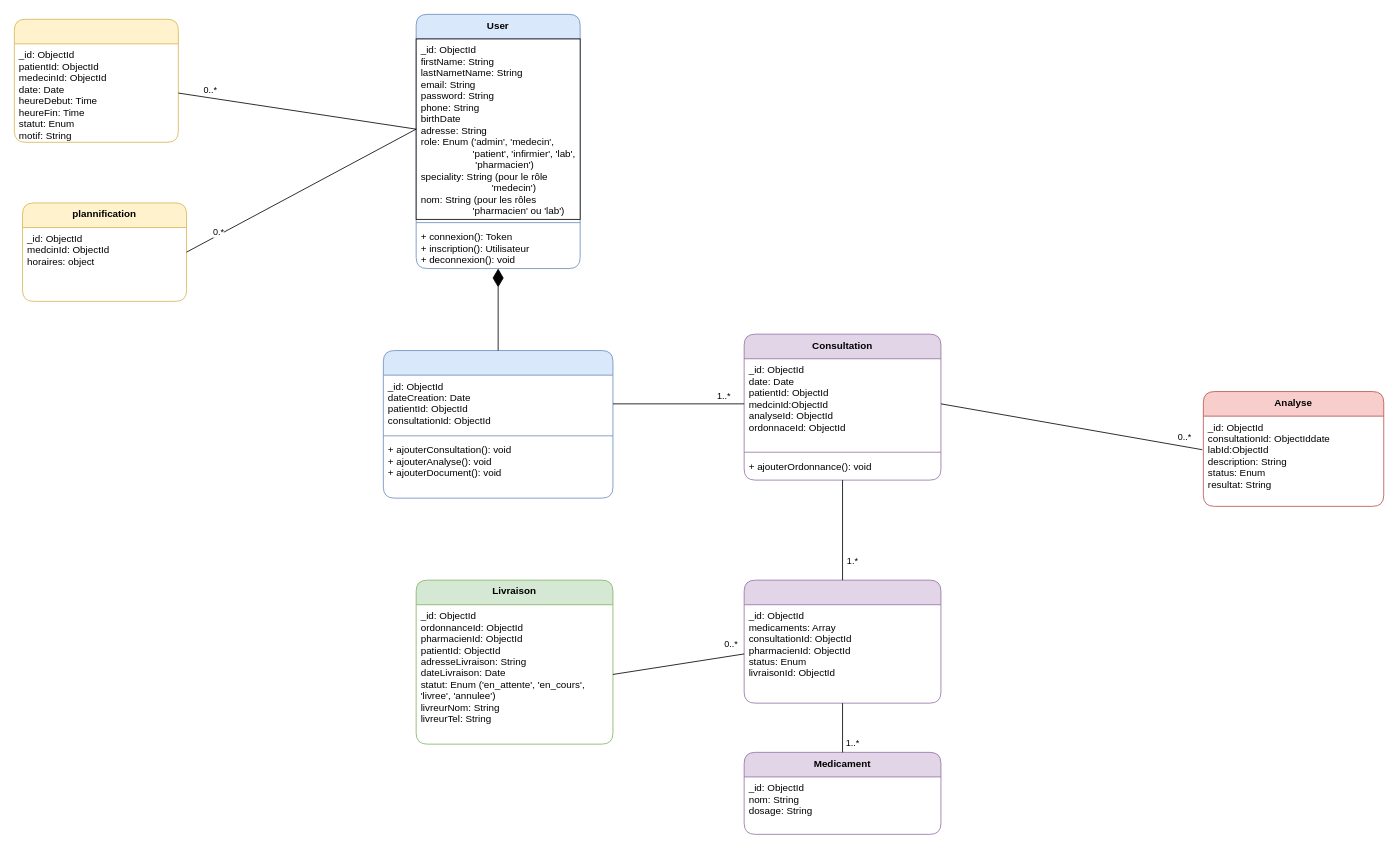
Some shapes in this 1398 by 851 pixel diagram are drawn without their labels. Each missing label, with the box of its shape:
Appointment: (14, 18, 178, 142)
DossierMedical: (383, 350, 613, 498)
Ordonnance: (743, 579, 941, 703)
